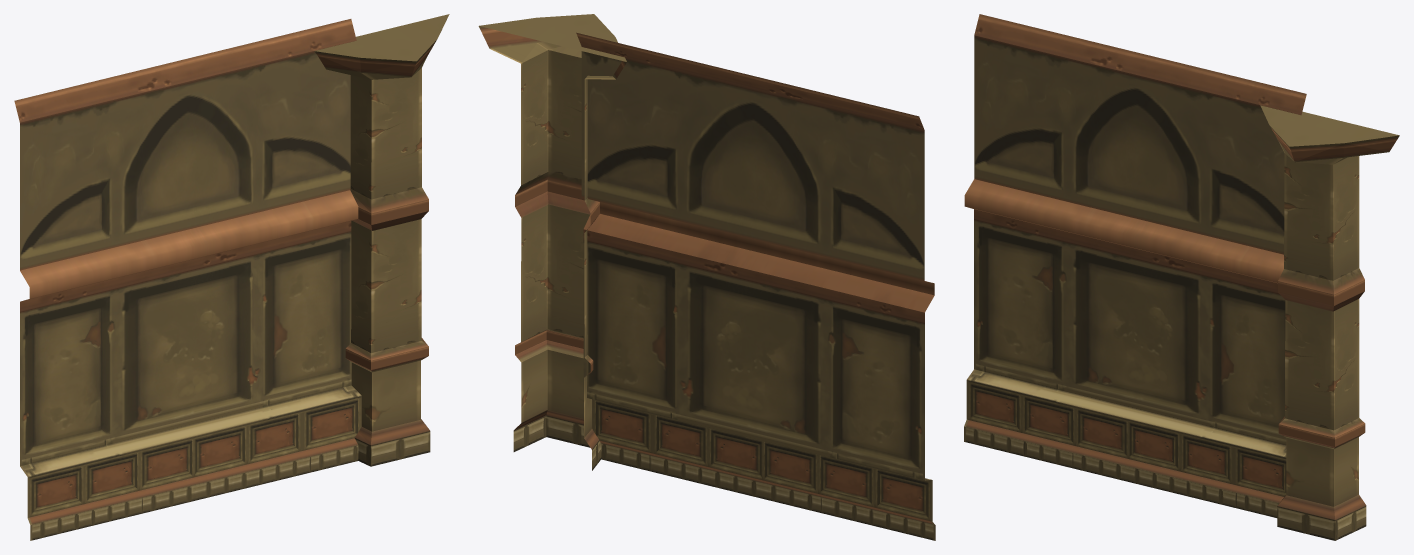
The model's file is wall big 3.FBX.
3 renders of one model, left to right at view 1: azimuth 30°, elevation 25°; view 2: azimuth 150°, elevation 25°; view 3: azimuth 330°, elevation 25°, orthographic. The views are drawn at different scales.
Visible parts, largest first — view 1: wall big 3; view 2: wall big 3; view 3: wall big 3.
Part boxes in pixels (x1,y1,x2,y2): wall big 3: (14, 14, 449, 540); wall big 3: (478, 14, 935, 540); wall big 3: (964, 14, 1399, 540).
Bounding box in the file's own units: 1048 × 989 × 175.
